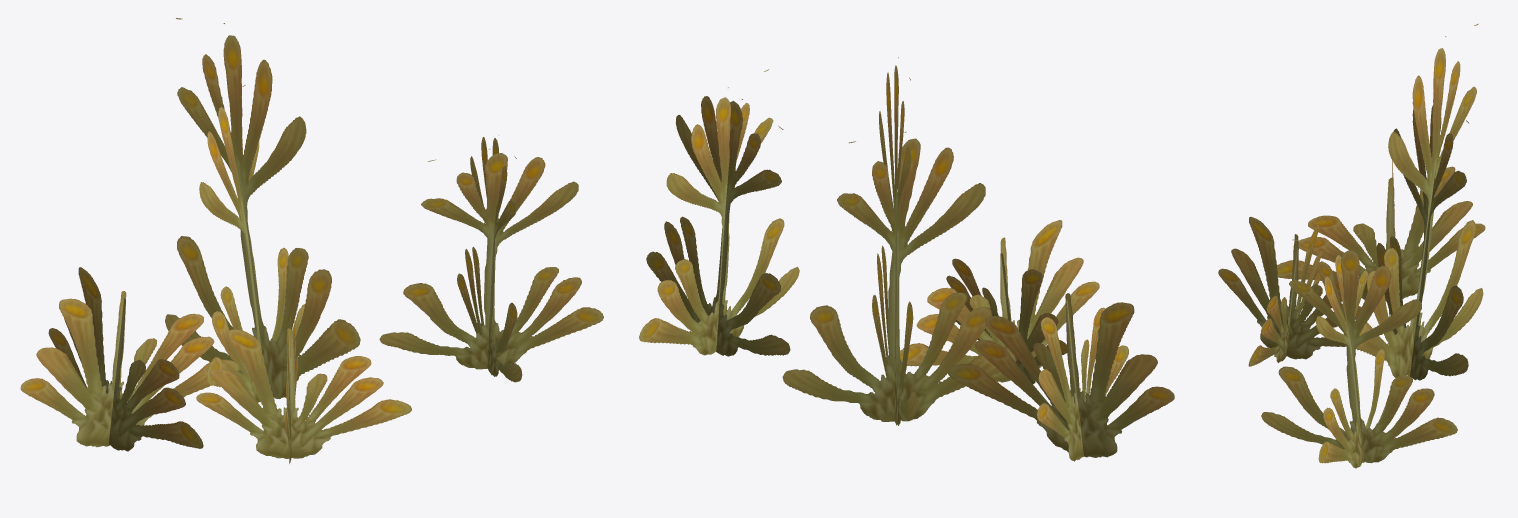
File: Map_08_grass07.FBX
3 views of the same model, side by side, from view 1: azimuth 30°, elevation 25°; view 2: azimuth 150°, elevation 25°; view 3: azimuth 270°, elevation 25° (orthographic). The views are drawn at different scales.
Visible parts, largest first — view 1: Map_08_grass07; view 2: Map_08_grass07; view 3: Map_08_grass07.
Part boxes in pixels (left/top/right/bottom): Map_08_grass07: left=20, top=18, right=603, bottom=463; Map_08_grass07: left=639, top=57, right=1174, bottom=461; Map_08_grass07: left=1218, top=23, right=1485, bottom=468.
Bounding box in the file's own units: 41.33 × 26.59 × 21.05.
